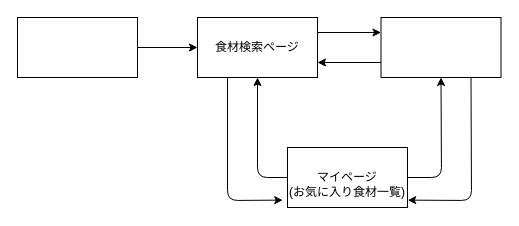
Image size: 519x226. Some labels were removed from this diagram. Here are the shapes that lost their labels. From the top down, the centre of each, then its label:
At (77,47): "サインイン/ ログイン ページ".
At (440,47): "食材詳細ページ (おすすめレシピ表示)".
